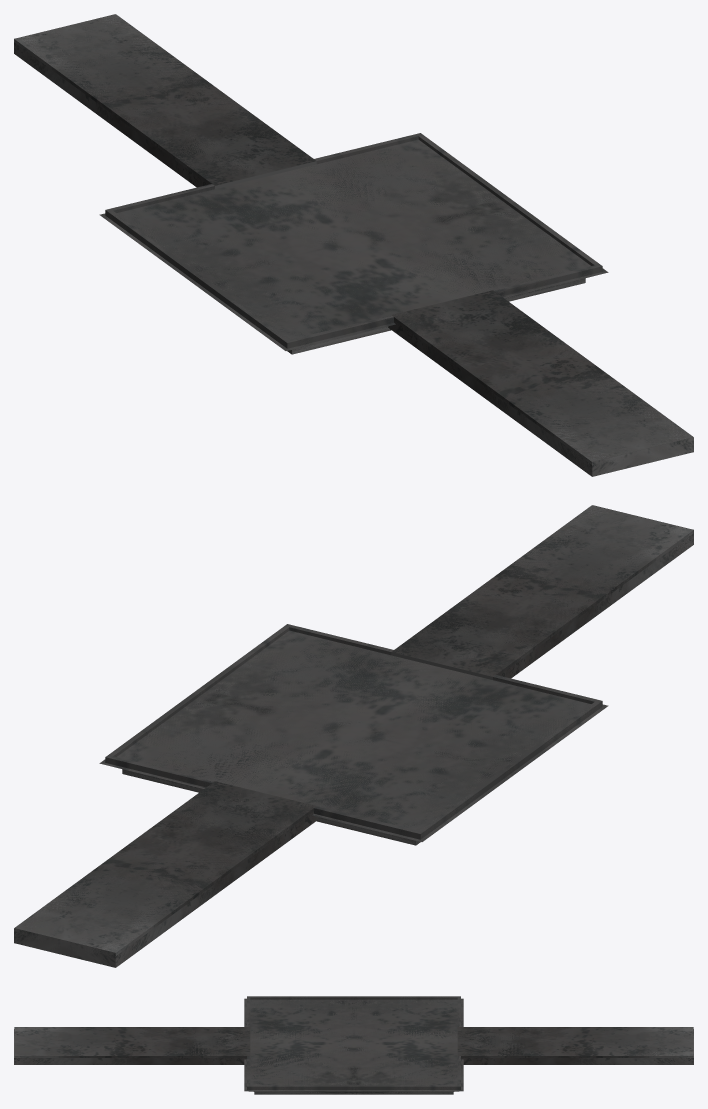
Rendered from plataforma 1.fbx.
3 views of the same model, one above another, from view 1: azimuth 30°, elevation 25°; view 2: azimuth 150°, elevation 25°; view 3: azimuth 270°, elevation 25° (orthographic). The views are drawn at different scales.
Parts seen in each view (by area): view 1: Cube; view 2: Cube; view 3: Cube.
Part boxes in pixels (x1,y1,x2,y2): Cube: (14, 14, 693, 476); Cube: (14, 505, 693, 967); Cube: (14, 996, 693, 1094).
Bounding box in the file's own units: 572 × 31.77 × 1775.
Materials: 1 (1 with a texture image).
